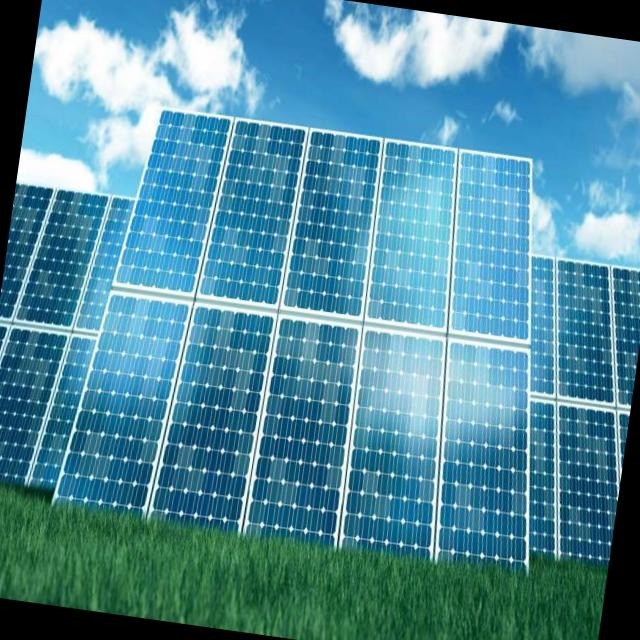no faulty: (61, 297, 185, 515), (149, 310, 270, 529), (250, 323, 356, 550), (345, 337, 442, 560), (115, 112, 229, 294), (441, 347, 526, 563), (204, 126, 299, 303), (292, 135, 374, 321), (372, 147, 451, 328), (12, 191, 109, 328), (453, 159, 526, 339), (560, 407, 618, 565), (555, 261, 612, 399)
